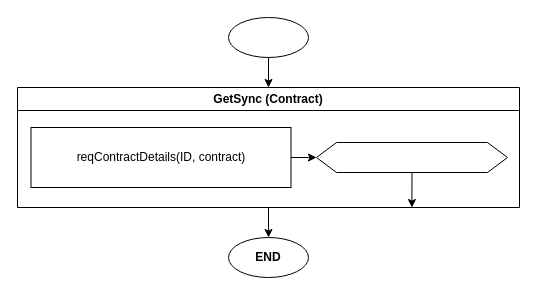
Some shapes in this 537 by 295 pixel diagram are drawn without their labels. The shapes that lost their labels are listed below. From the top down, each one's box as (x1, y1, x2, y2) in pixels, then its label:
(228, 16, 308, 58): START
(316, 142, 508, 172): contractDetails (ID, details )
